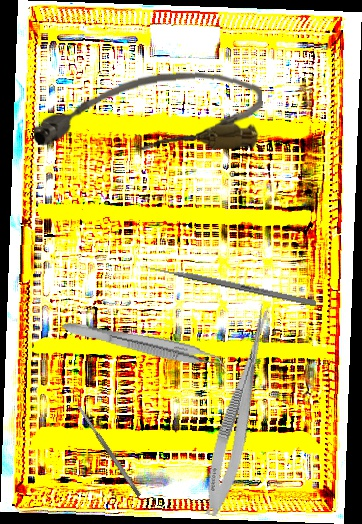Cannula: (31, 68, 265, 159)
Micro Scissor: (198, 300, 277, 520)
Pusher: (139, 262, 317, 307)
Spatula Surgical: (76, 404, 142, 498)
Tissue Forceps: (59, 318, 231, 375)
